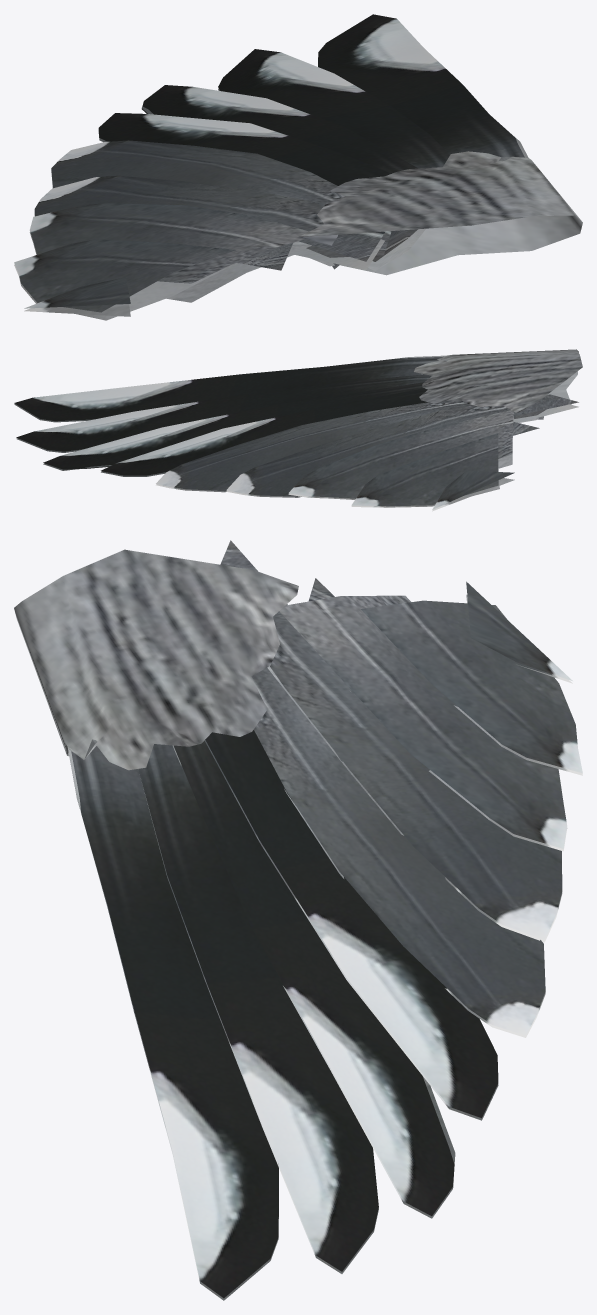
The model's file is Seagull_R_out.gltf.
The picture shows the model from 3 angles, top to bottom: view 1: azimuth 90°, elevation 25°; view 2: azimuth 150°, elevation 25°; view 3: azimuth 270°, elevation 25°; orthographic projection. The views are drawn at different scales.
Visible parts, largest first — view 1: Seagull_R_out; view 2: Seagull_R_out; view 3: Seagull_R_out.
Part boxes in pixels (left/top/right/bottom): Seagull_R_out: left=14, top=14, right=582, bottom=320; Seagull_R_out: left=14, top=349, right=582, bottom=511; Seagull_R_out: left=14, top=540, right=582, bottom=1300.
Size of the model in its own units: 0.3235 by 0.0825 by 0.1545.
1 material, 1 textured.
